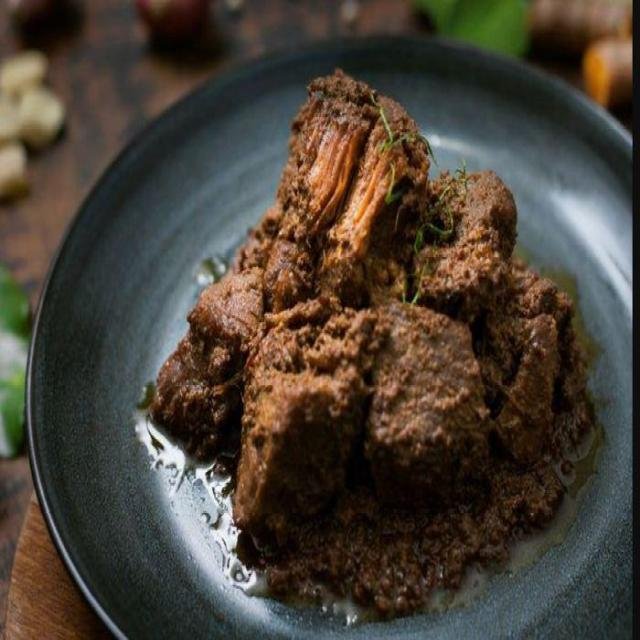Rendang: (141, 68, 611, 580)
